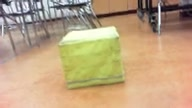cube: (58, 25, 125, 88)
